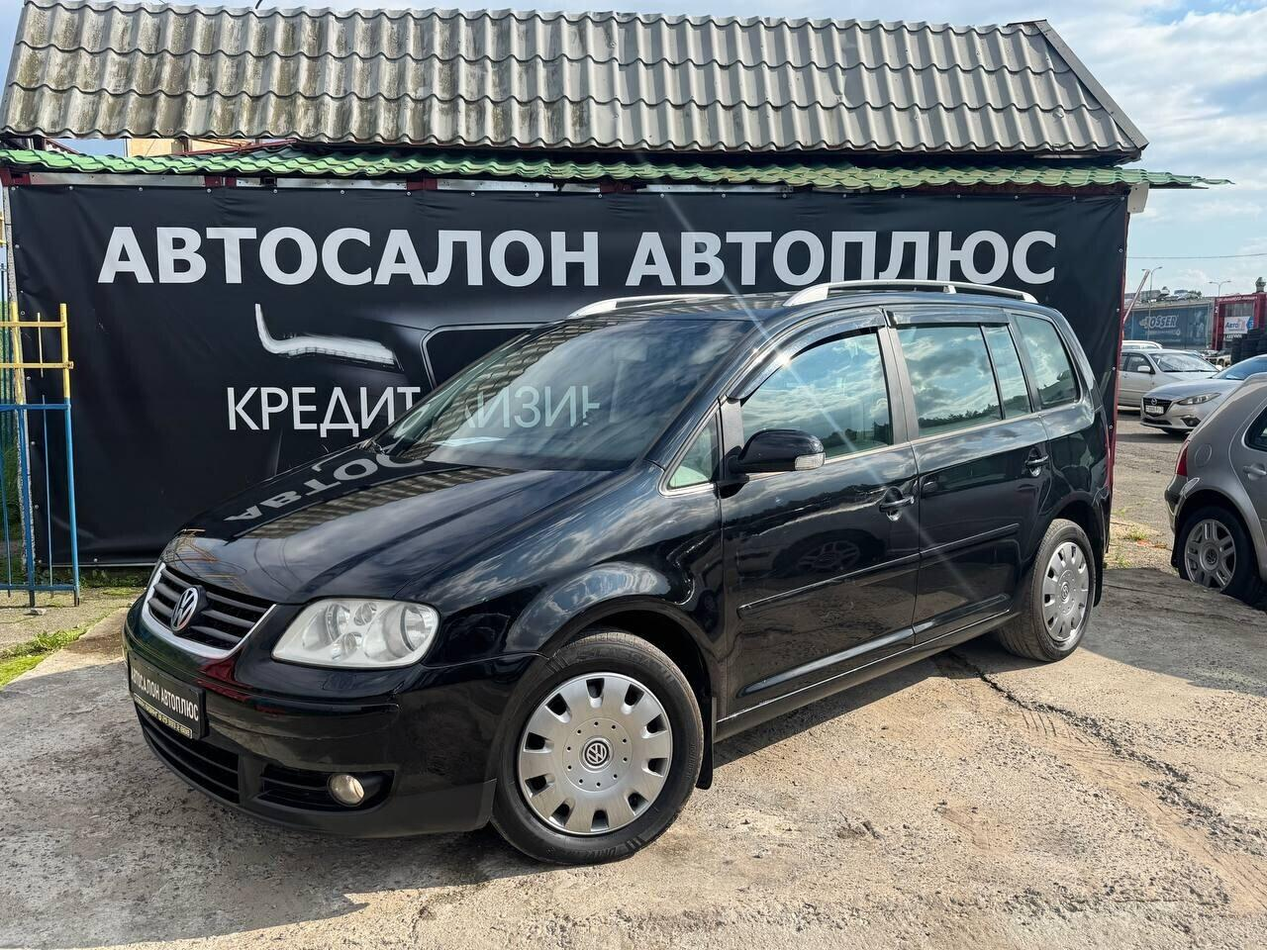Touran_2003-2006: (121, 282, 1117, 855)
